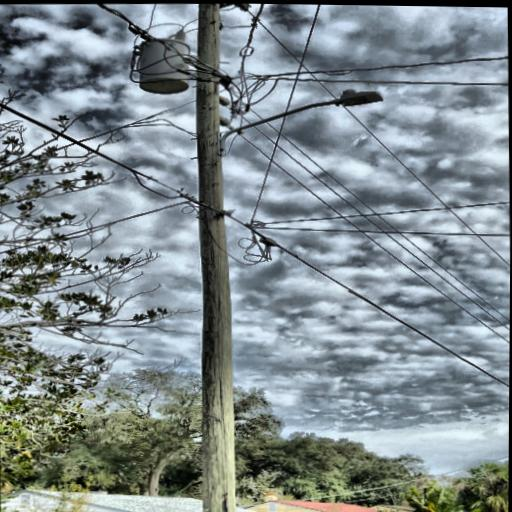pole: (184, 3, 258, 512)
street light: (212, 86, 385, 161)
transformer: (134, 36, 194, 95)
